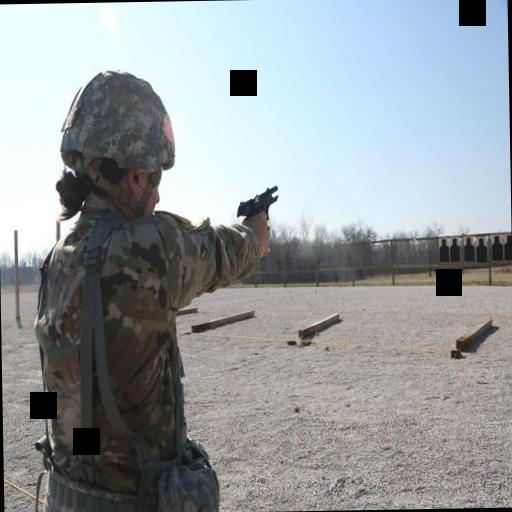Handgun: (234, 184, 280, 226)
